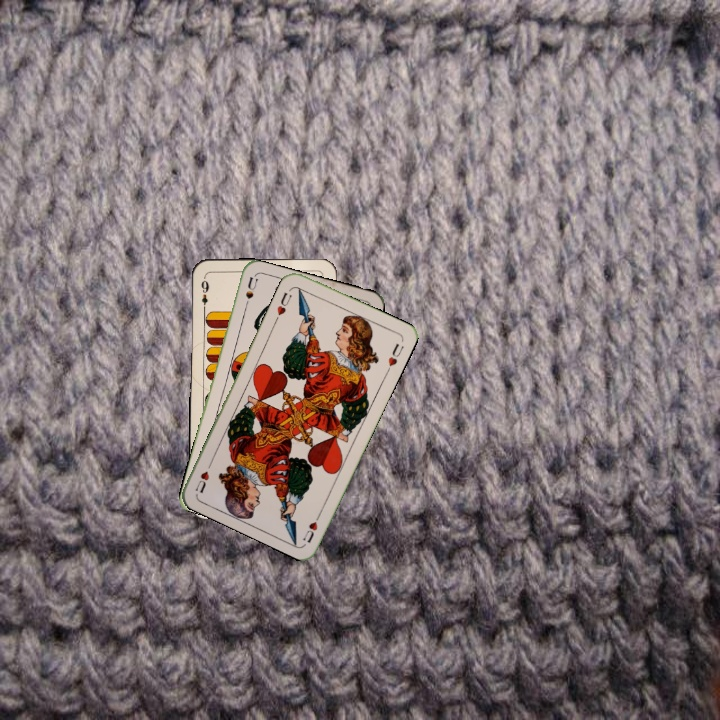E9: (197, 273, 211, 314)
HU: (299, 507, 325, 546), (271, 288, 295, 323)
SU: (240, 273, 260, 314)
